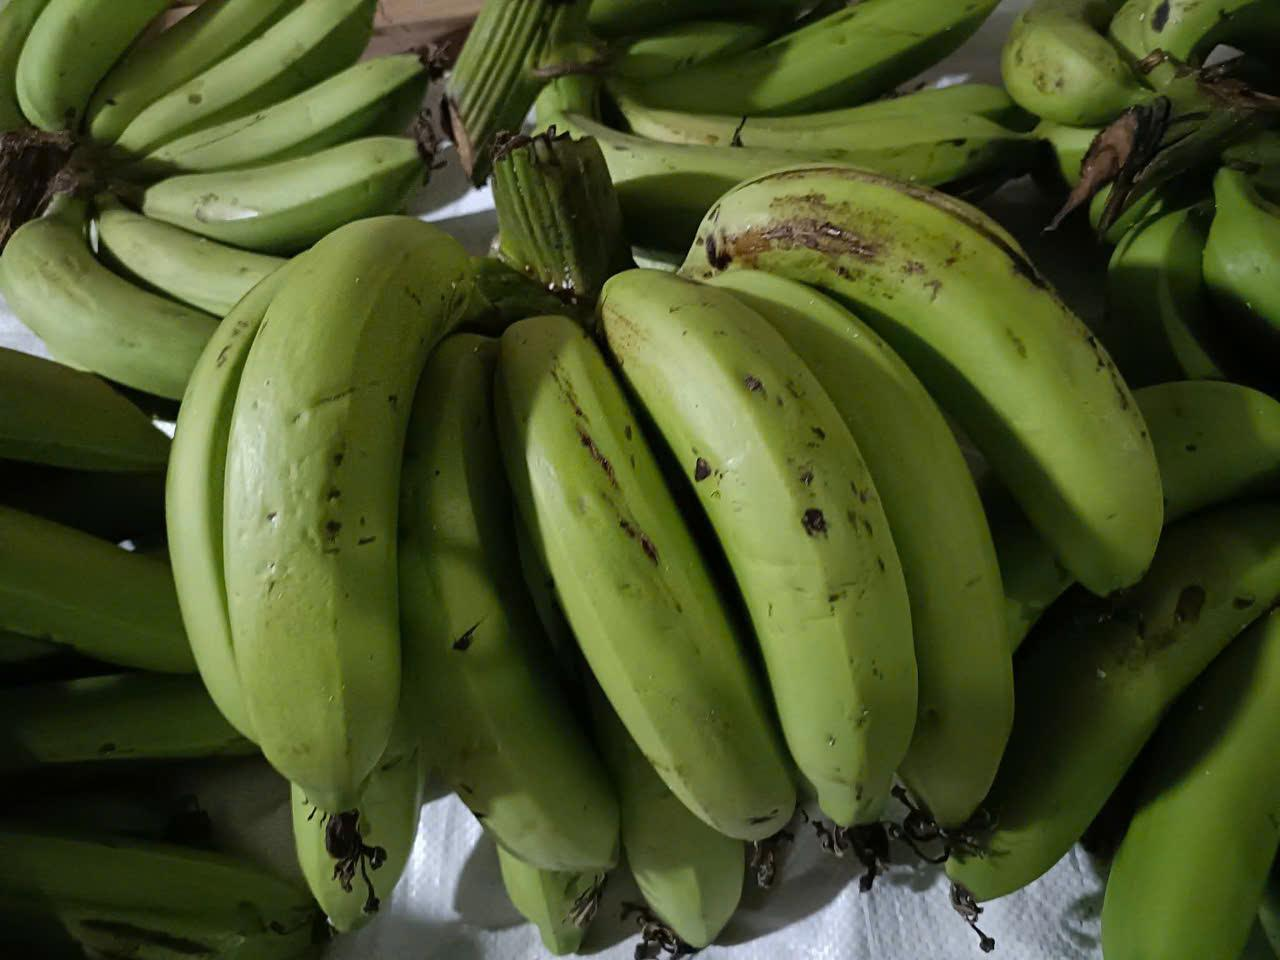banana: (603, 145, 1175, 842), (182, 203, 590, 941), (12, 0, 420, 205), (605, 0, 1063, 170)
